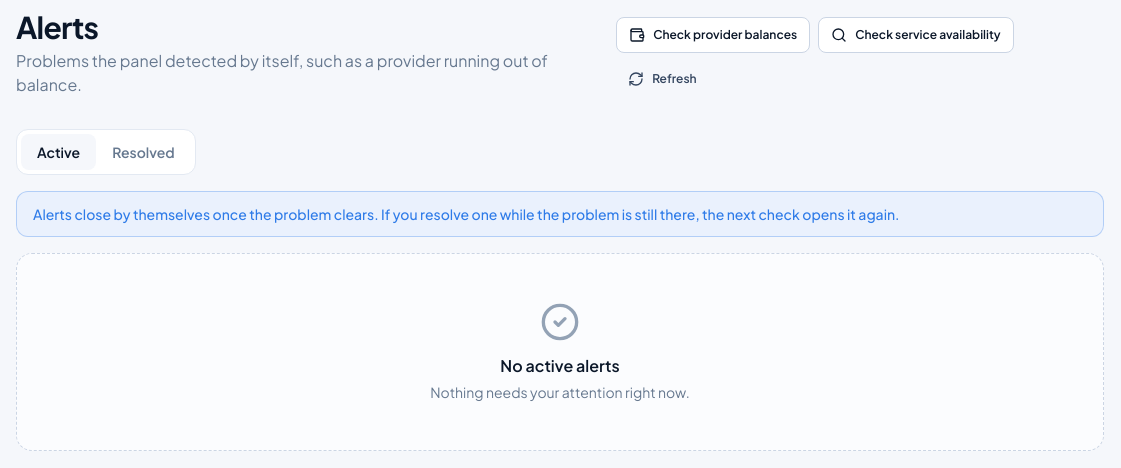
it: AlertsPage › shows an empty state and switches to resolved alerts
Expected: the text "No active alerts" is shown, left=500, top=355, right=620, bottom=376
Click the tab "Resolved".
click(143, 152)  # box left=96, top=134, right=191, bottom=170
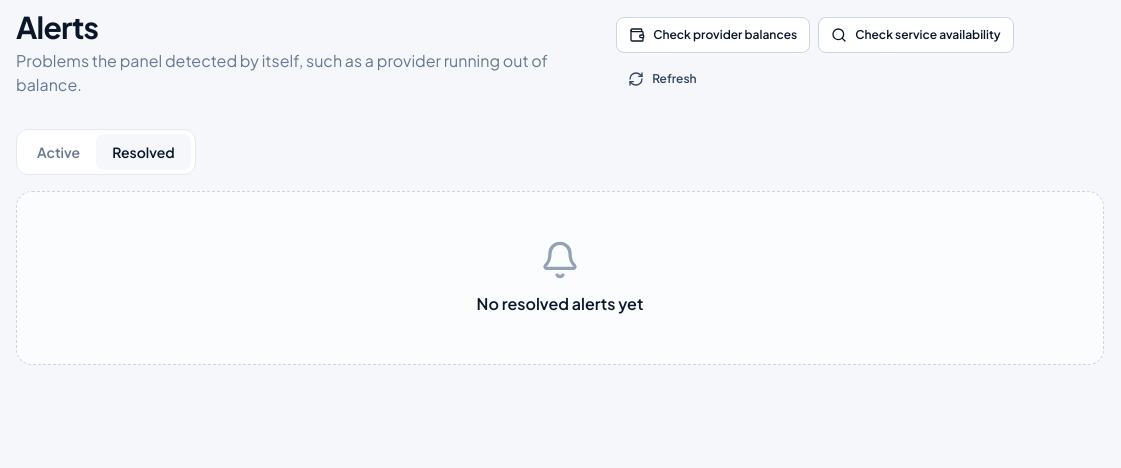
Expected: the text "No resolved alerts yet" is shown, left=477, top=292, right=643, bottom=316
